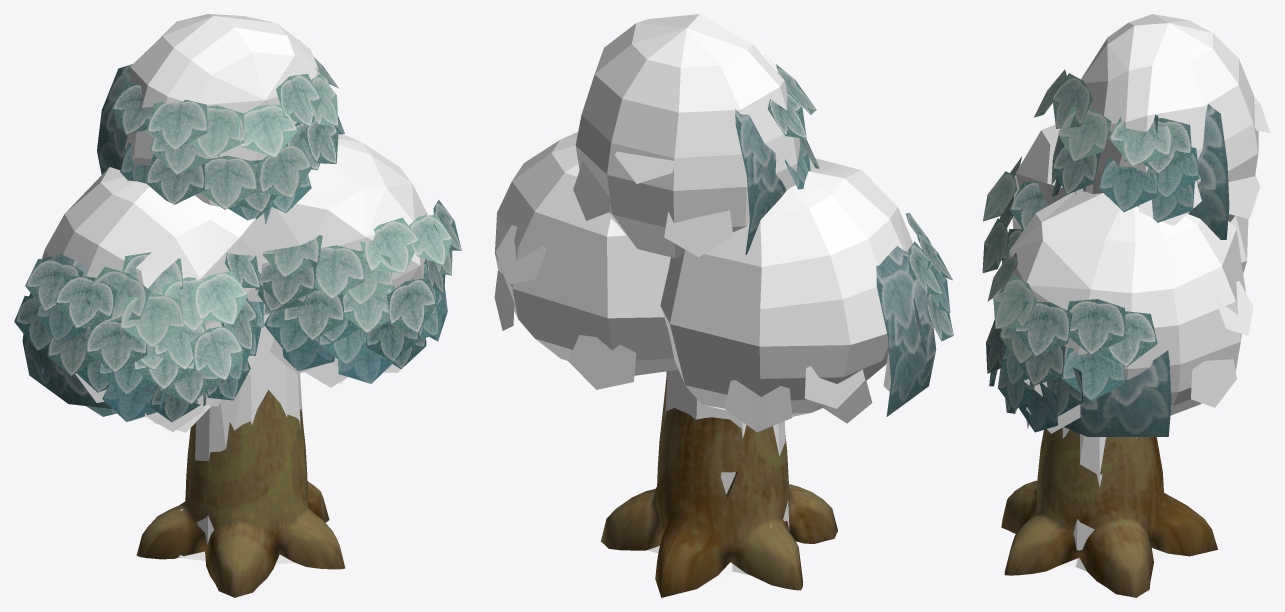
File: tree-hardwood-snow.glb
The picture shows the model from 3 angles, left to right: view 1: azimuth 30°, elevation 25°; view 2: azimuth 150°, elevation 25°; view 3: azimuth 270°, elevation 25°; orthographic projection. The views are drawn at different scales.
Visible parts, largest first — view 1: Frost01_0_1__mTreeOakLeafSnow, LB014__mShadow, TrunkBottom__mPltTreeOakWinterTrunk, Inside_0__mTreeOakLeafSphSnow, L02_016__mShadowShake; view 2: LB014__mShadow, TrunkBottom__mPltTreeOakWinterTrunk, L02_016__mShadowShake, Inside_0__mTreeOakLeafSphSnow, Frost01_0_1__mTreeOakLeafSnow; view 3: LB014__mShadow, Frost01_0_1__mTreeOakLeafSnow, TrunkBottom__mPltTreeOakWinterTrunk, Inside_0__mTreeOakLeafSphSnow, L02_016__mShadowShake.
Part boxes in pixels (<box>): Frost01_0_1__mTreeOakLeafSnow: <box>14,40,461,422</box>; LB014__mShadow: <box>42,14,427,569</box>; TrunkBottom__mPltTreeOakWinterTrunk: <box>136,390,345,597</box>; Inside_0__mTreeOakLeafSphSnow: <box>22,64,285,416</box>; L02_016__mShadowShake: <box>75,300,443,432</box>; LB014__mShadow: <box>495,14,912,583</box>; TrunkBottom__mPltTreeOakWinterTrunk: <box>600,371,837,597</box>; L02_016__mShadowShake: <box>494,151,890,432</box>; Inside_0__mTreeOakLeafSphSnow: <box>735,109,936,416</box>; Frost01_0_1__mTreeOakLeafSnow: <box>765,55,953,353</box>; LB014__mShadow: <box>1009,14,1258,571</box>; Frost01_0_1__mTreeOakLeafSnow: <box>982,69,1199,432</box>; TrunkBottom__mPltTreeOakWinterTrunk: <box>1001,428,1217,597</box>; Inside_0__mTreeOakLeafSphSnow: <box>1064,104,1229,436</box>; L02_016__mShadowShake: <box>1014,96,1270,433</box>.
Size of the model in its own units: 2.76 by 3.33 by 1.65.
5 materials, 3 textured.
